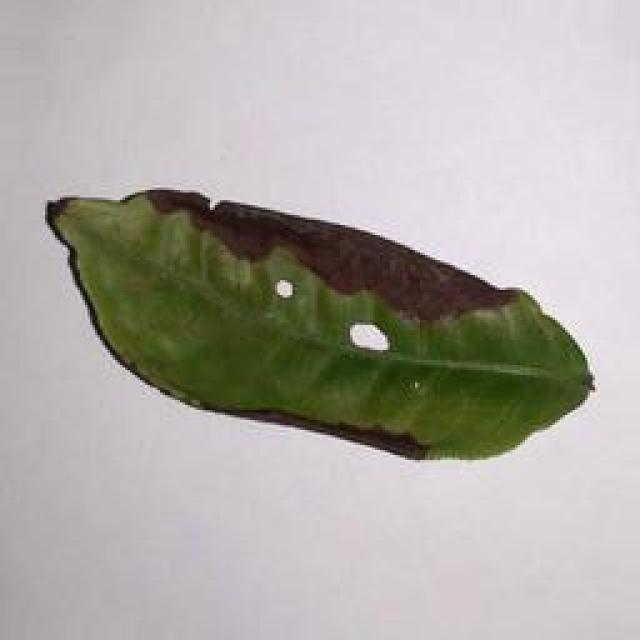Brown Blight: (39, 185, 582, 491)
